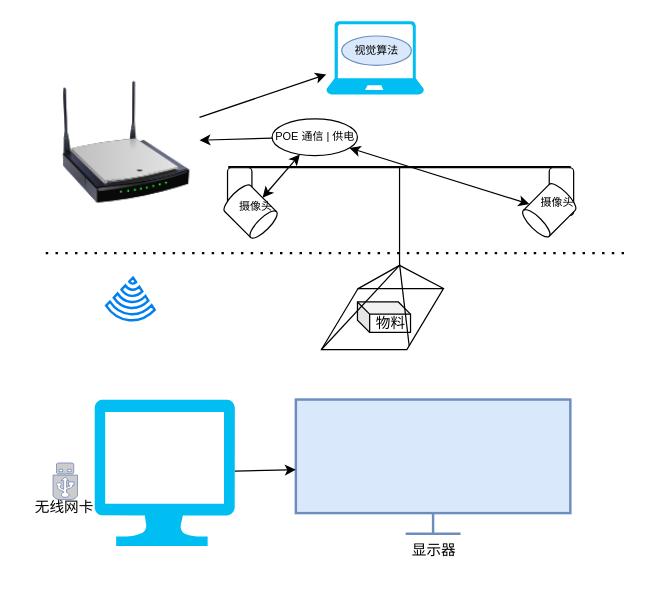
The diagram is 654 pixels wide and 592 high, and some of its shapes have lost their labels. The box of each missing label's shape, as (x1, y1, x2, y2) in pixels:
工厂电脑: (94, 399, 234, 545)
笔记本电脑: (326, 21, 423, 94)
路由器: (52, 81, 199, 203)
